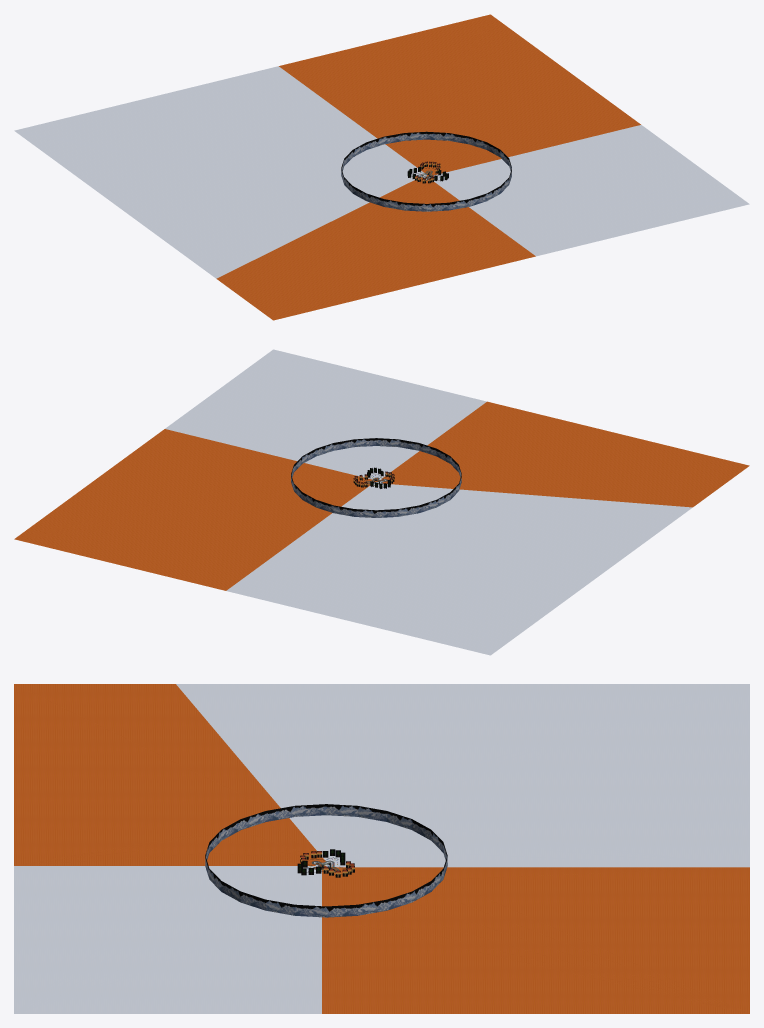
3 views of the same model, one above another, from view 1: azimuth 30°, elevation 25°; view 2: azimuth 150°, elevation 25°; view 3: azimuth 270°, elevation 25° (orthographic). The views are drawn at different scales.
Parts seen in each view (by area): view 1: Solstice_Tundra_SKP__Snow.001, Solstice_Tundra_SKP__Leaves.001, Solstice_Tundra_SKP__Mountains.001; view 2: Solstice_Tundra_SKP__Snow.001, Solstice_Tundra_SKP__Leaves.001, Solstice_Tundra_SKP__Mountains.001; view 3: Solstice_Tundra_SKP__Snow.001, Solstice_Tundra_SKP__Leaves.001, Solstice_Tundra_SKP__Mountains.001.
Part boxes in pixels (box(x1,y1,x2,y2)): Solstice_Tundra_SKP__Snow.001: box(14, 66, 749, 278); Solstice_Tundra_SKP__Leaves.001: box(216, 14, 640, 320); Solstice_Tundra_SKP__Mountains.001: box(341, 131, 511, 211); Solstice_Tundra_SKP__Snow.001: box(165, 349, 692, 655); Solstice_Tundra_SKP__Leaves.001: box(14, 401, 749, 590); Solstice_Tundra_SKP__Mountains.001: box(291, 438, 461, 517); Solstice_Tundra_SKP__Snow.001: box(14, 684, 749, 1013); Solstice_Tundra_SKP__Leaves.001: box(14, 684, 749, 1013); Solstice_Tundra_SKP__Mountains.001: box(205, 804, 447, 917).
Size of the model in its own units: 1200863 by 20175 by 1131899.
18 materials, 18 textured.
